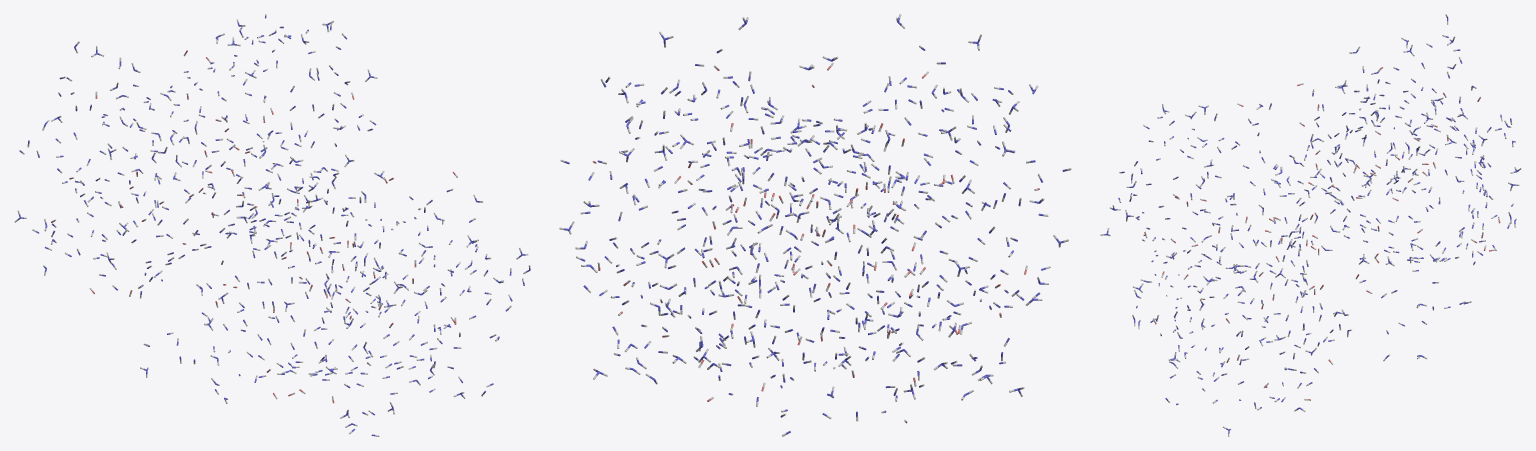
The model's file is 1gfl__lines__default__H.glb.
The picture shows the model from 3 angles, left to right: view 1: azimuth 30°, elevation 25°; view 2: azimuth 150°, elevation 25°; view 3: azimuth 270°, elevation 25°; orthographic projection. The views are drawn at different scales.
Visible parts, largest first — view 1: Renderer Node; view 2: Renderer Node; view 3: Renderer Node.
Part boxes in pixels (box(x1,y1,x2,y2)): Renderer Node: box(14, 14, 530, 436); Renderer Node: box(559, 14, 1071, 436); Renderer Node: box(1100, 14, 1521, 436).
Size of the model in its own units: 62.6 by 52.2 by 61.7.
